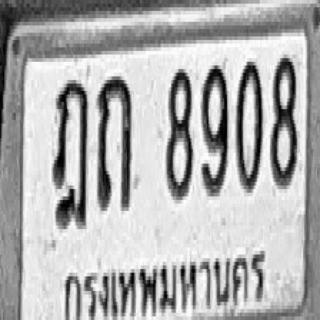A14: (52, 76, 88, 229)
A22: (96, 73, 132, 211)
N00: (236, 58, 263, 193)
N08: (166, 66, 193, 200), (270, 54, 297, 186)
N09: (201, 62, 228, 196)
P04: (60, 249, 275, 320)
